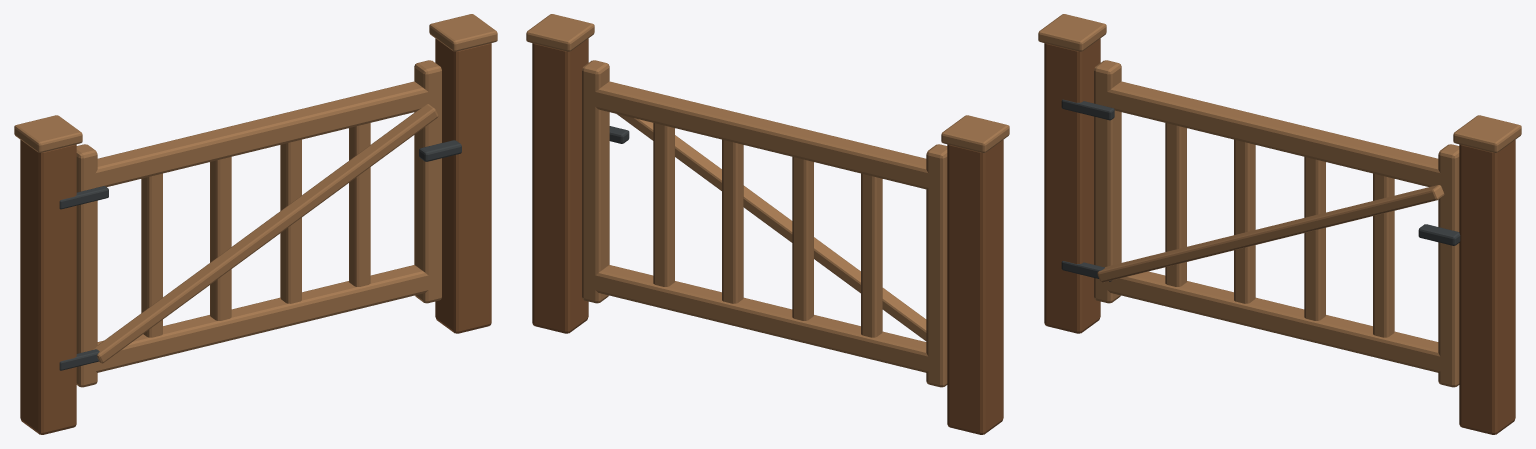
File: fence_gate_2m.glb
3 views of the same model, side by side, from view 1: azimuth 30°, elevation 25°; view 2: azimuth 150°, elevation 25°; view 3: azimuth 330°, elevation 25° (orthographic).
Parts seen in each view (by area): view 1: post.009, post.010, gate_rail.001, gate_rail, gate_diagonal, gate_stile.001, gate_stile, gate_picket, gate_picket.003, gate_picket.001, gate_picket.002, post_cap.005 (+4 smaller); view 2: post.009, post.010, gate_rail.001, gate_rail, gate_stile.001, gate_stile, gate_diagonal, gate_picket.001, gate_picket.003, gate_picket, gate_picket.002, post_cap.005 (+1 smaller); view 3: post.010, post.009, gate_rail.001, gate_rail, gate_stile, gate_diagonal, gate_stile.001, gate_picket, gate_picket.002, gate_picket.003, gate_picket.001, post_cap.006 (+4 smaller).
Boxes of the visible parts, box(x1,y1,x2,y2) form: post.009: box(20, 140, 76, 434); post.010: box(435, 38, 491, 333); gate_rail.001: box(92, 81, 431, 188); gate_rail: box(92, 265, 431, 372); gate_diagonal: box(93, 104, 438, 363); gate_stile.001: box(414, 60, 441, 303); gate_stile: box(76, 144, 97, 387); gate_picket: box(141, 173, 162, 337); gate_picket.003: box(349, 123, 370, 286); gate_picket.001: box(210, 157, 231, 320); gate_picket.002: box(280, 139, 301, 303); post_cap.005: box(14, 115, 82, 152); post.009: box(947, 140, 1003, 434); post.010: box(532, 38, 588, 333); gate_rail.001: box(592, 81, 931, 189); gate_rail: box(592, 265, 928, 372); gate_stile.001: box(582, 60, 609, 303); gate_stile: box(926, 144, 947, 387); gate_diagonal: box(617, 114, 926, 340); gate_picket.001: box(792, 157, 813, 320); gate_picket.003: box(653, 123, 674, 286); gate_picket: box(861, 173, 882, 337); gate_picket.002: box(722, 139, 743, 303); post_cap.005: box(941, 115, 1009, 152); post.010: box(1459, 140, 1515, 434); post.009: box(1044, 38, 1100, 333); gate_rail.001: box(1104, 81, 1443, 188); gate_rail: box(1104, 271, 1443, 372); gate_stile: box(1094, 60, 1121, 303); gate_diagonal: box(1097, 185, 1444, 282); gate_stile.001: box(1438, 144, 1459, 387); gate_picket: box(1165, 123, 1186, 286); gate_picket.002: box(1304, 157, 1325, 320); gate_picket.003: box(1373, 173, 1394, 337); gate_picket.001: box(1234, 139, 1255, 303); post_cap.006: box(1453, 115, 1521, 152).
Size of the model in its own units: 1.95 by 1.2 by 0.2125.
